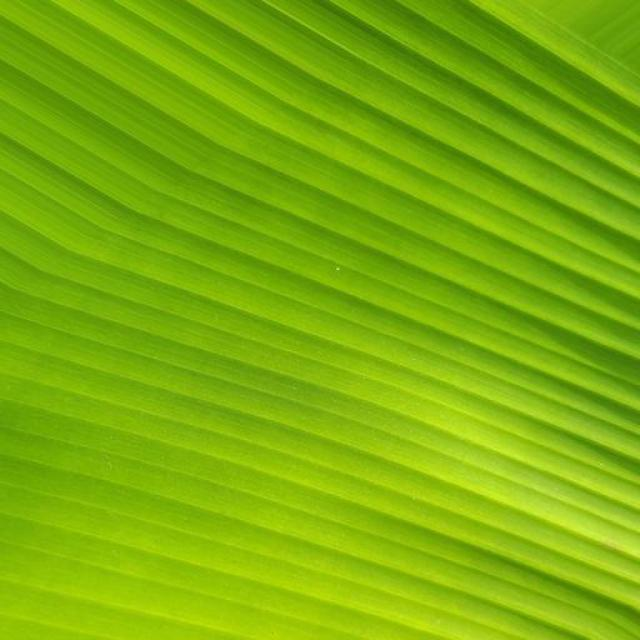Black_leaf_spot: (7, 36, 640, 609)
